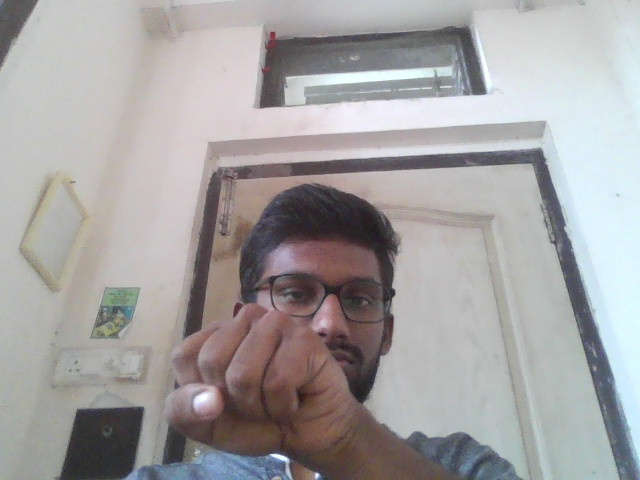No: (161, 296, 355, 456)
